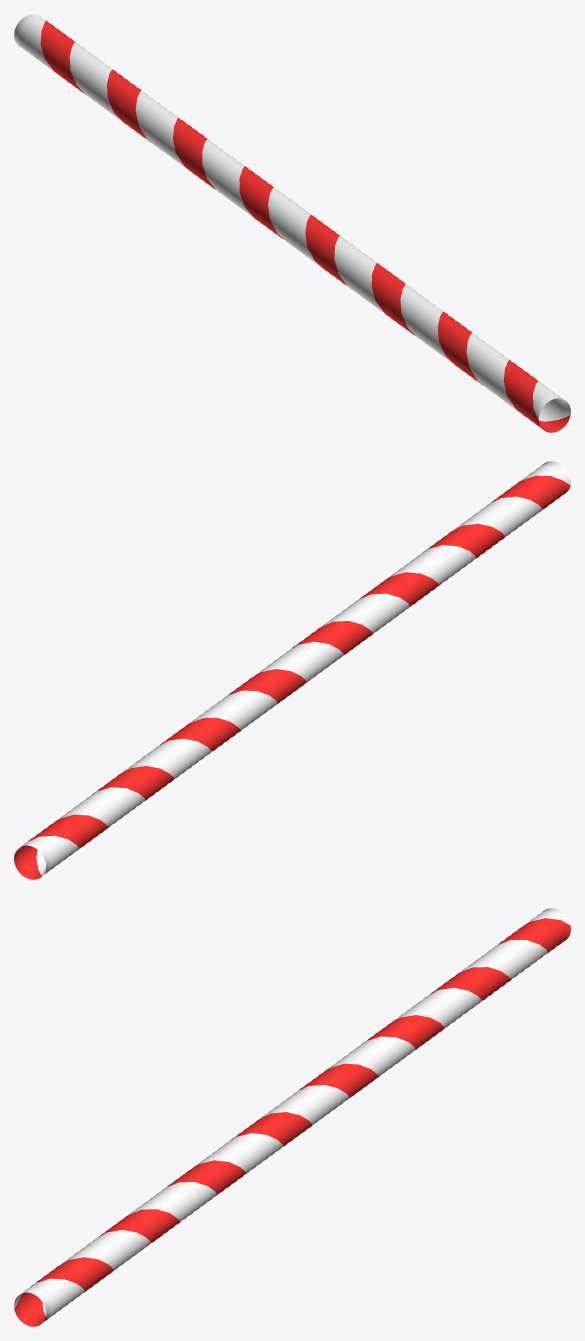
File: straw.glb
3 renders of one model, top to bottom at view 1: azimuth 30°, elevation 25°; view 2: azimuth 150°, elevation 25°; view 3: azimuth 330°, elevation 25°, orthographic.
Parts seen in each view (by area): view 1: straw; view 2: straw; view 3: straw.
Part boxes in pixels (box(x1,y1,x2,y2)): straw: box(14, 14, 570, 432); straw: box(14, 461, 570, 879); straw: box(14, 908, 570, 1326).
Bounding box in the file's own units: 0.03 × 0.03 × 0.8503.
